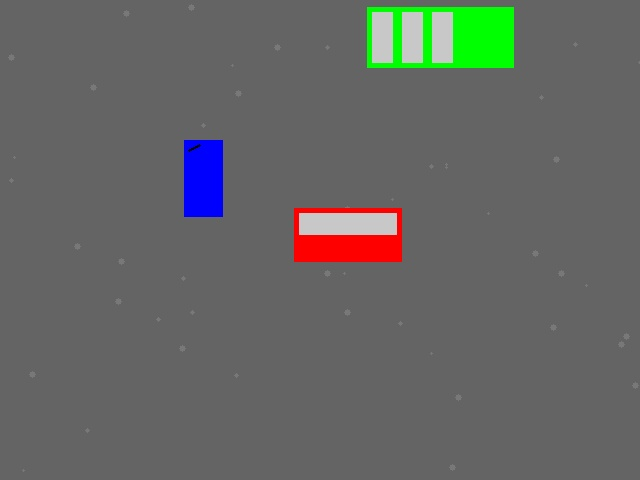bus: (367, 7, 513, 67)
car: (294, 208, 401, 261)
motorcycle: (184, 140, 222, 216)
